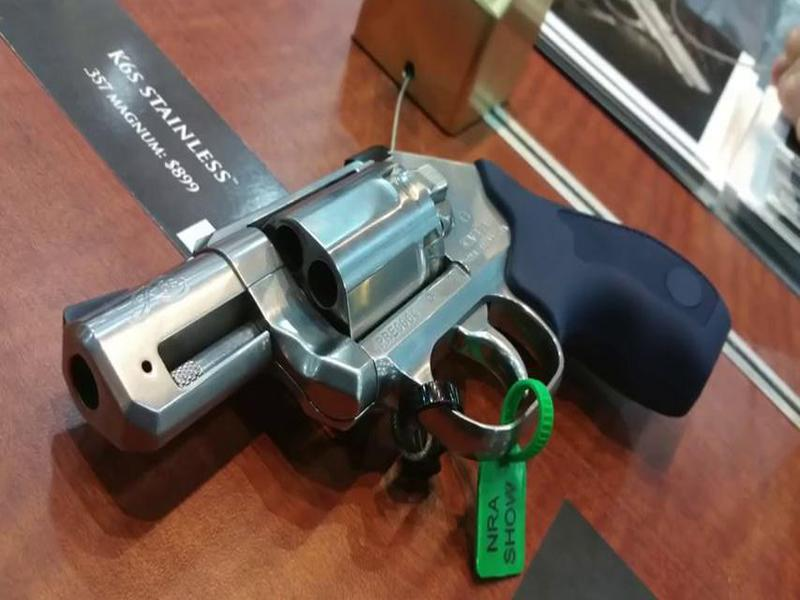Revolver: (63, 127, 740, 486)
